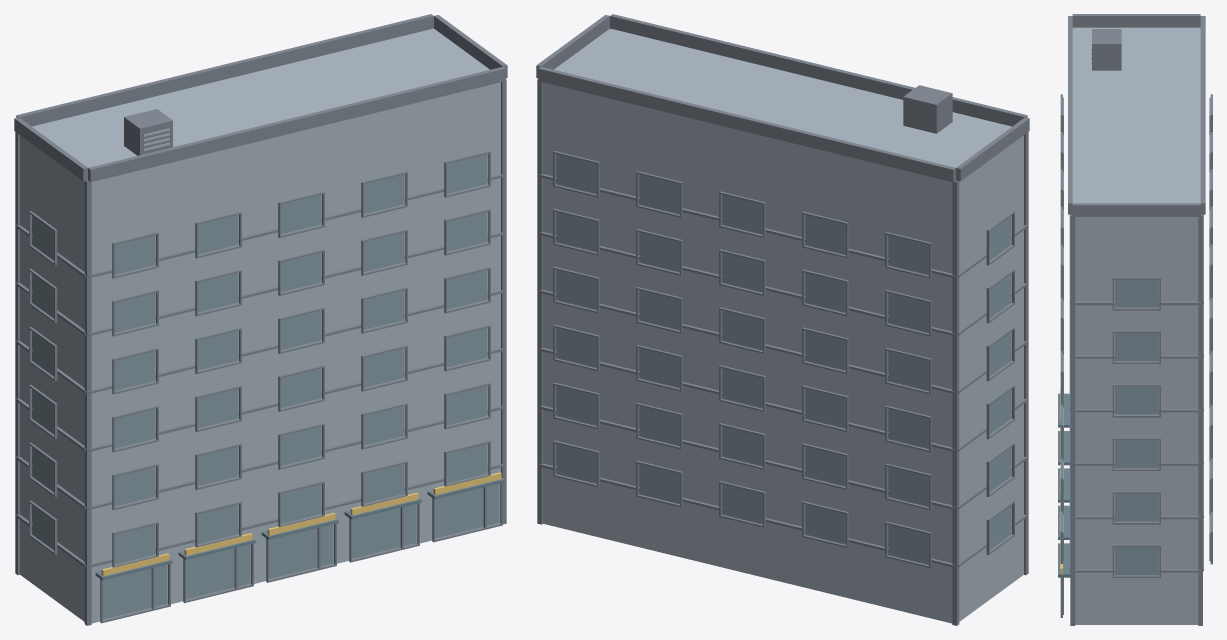
File: lot_3x1.glb
3 renders of one model, left to right at view 1: azimuth 30°, elevation 25°; view 2: azimuth 150°, elevation 25°; view 3: azimuth 270°, elevation 25°, orthographic. The views are drawn at different scales.
Parts seen in each view (by area): view 1: lot_3x1; view 2: lot_3x1; view 3: lot_3x1.
Part boxes in pixels (x1,y1,x2,y2): lot_3x1: (14, 14, 507, 625); lot_3x1: (536, 14, 1029, 625); lot_3x1: (1058, 14, 1212, 625).
Bounding box in the file's own units: 23.74 × 24.5 × 7.87.
